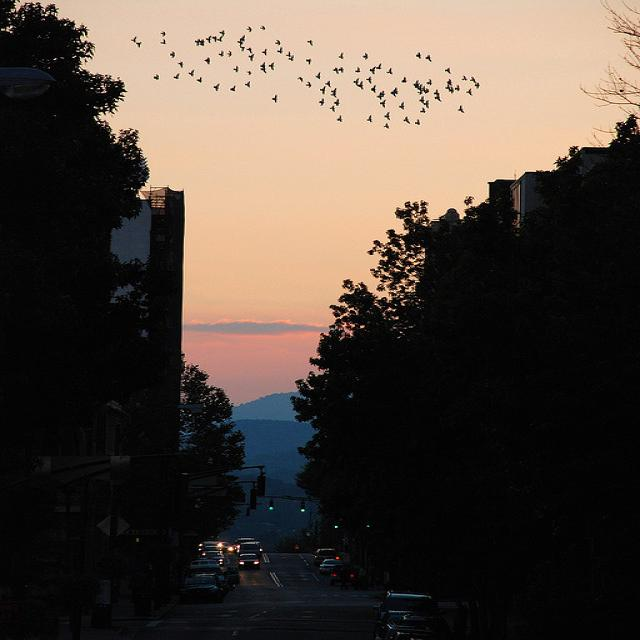Vehicle: (372, 610, 448, 640), (373, 586, 439, 619), (196, 531, 264, 557), (187, 568, 239, 592), (178, 577, 224, 603), (329, 564, 359, 590), (312, 547, 341, 566), (388, 630, 442, 640), (236, 554, 261, 572), (239, 542, 263, 558), (320, 558, 343, 574), (190, 561, 222, 572), (202, 546, 222, 556), (206, 556, 225, 566)
